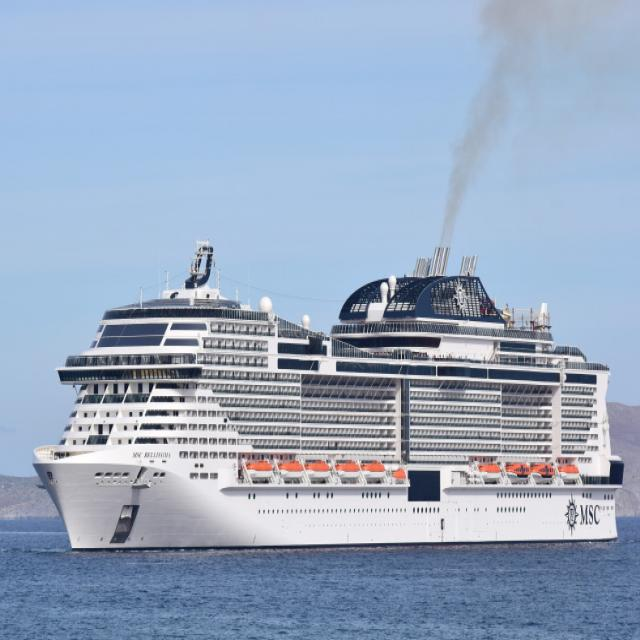cruises: (29, 238, 630, 558)
